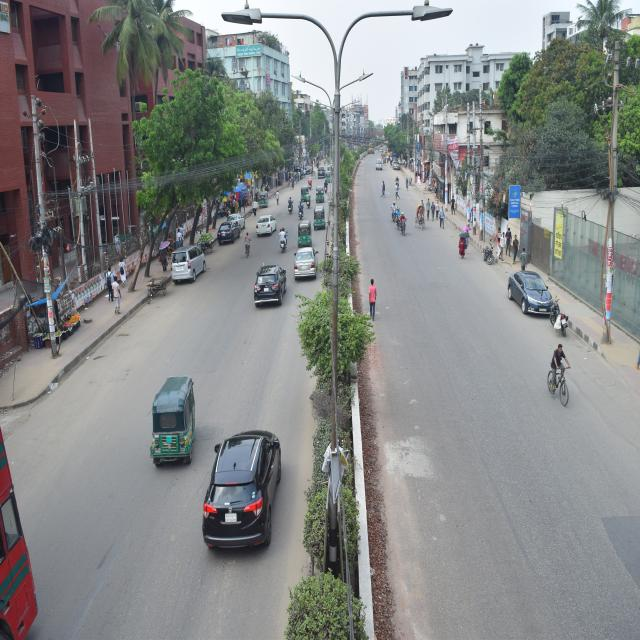car: (201, 420, 275, 550), (510, 270, 557, 315), (246, 260, 283, 310), (294, 243, 317, 284), (253, 214, 279, 241), (220, 219, 232, 241), (229, 209, 241, 229)
microbus: (169, 247, 214, 280)
motorbike: (555, 307, 589, 340), (274, 226, 288, 253), (398, 213, 409, 230), (393, 202, 401, 218), (289, 195, 293, 216), (300, 208, 304, 218)
